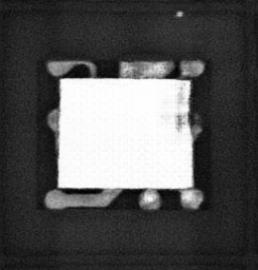DIE_INK: (171, 85, 190, 136), (175, 8, 184, 18)
